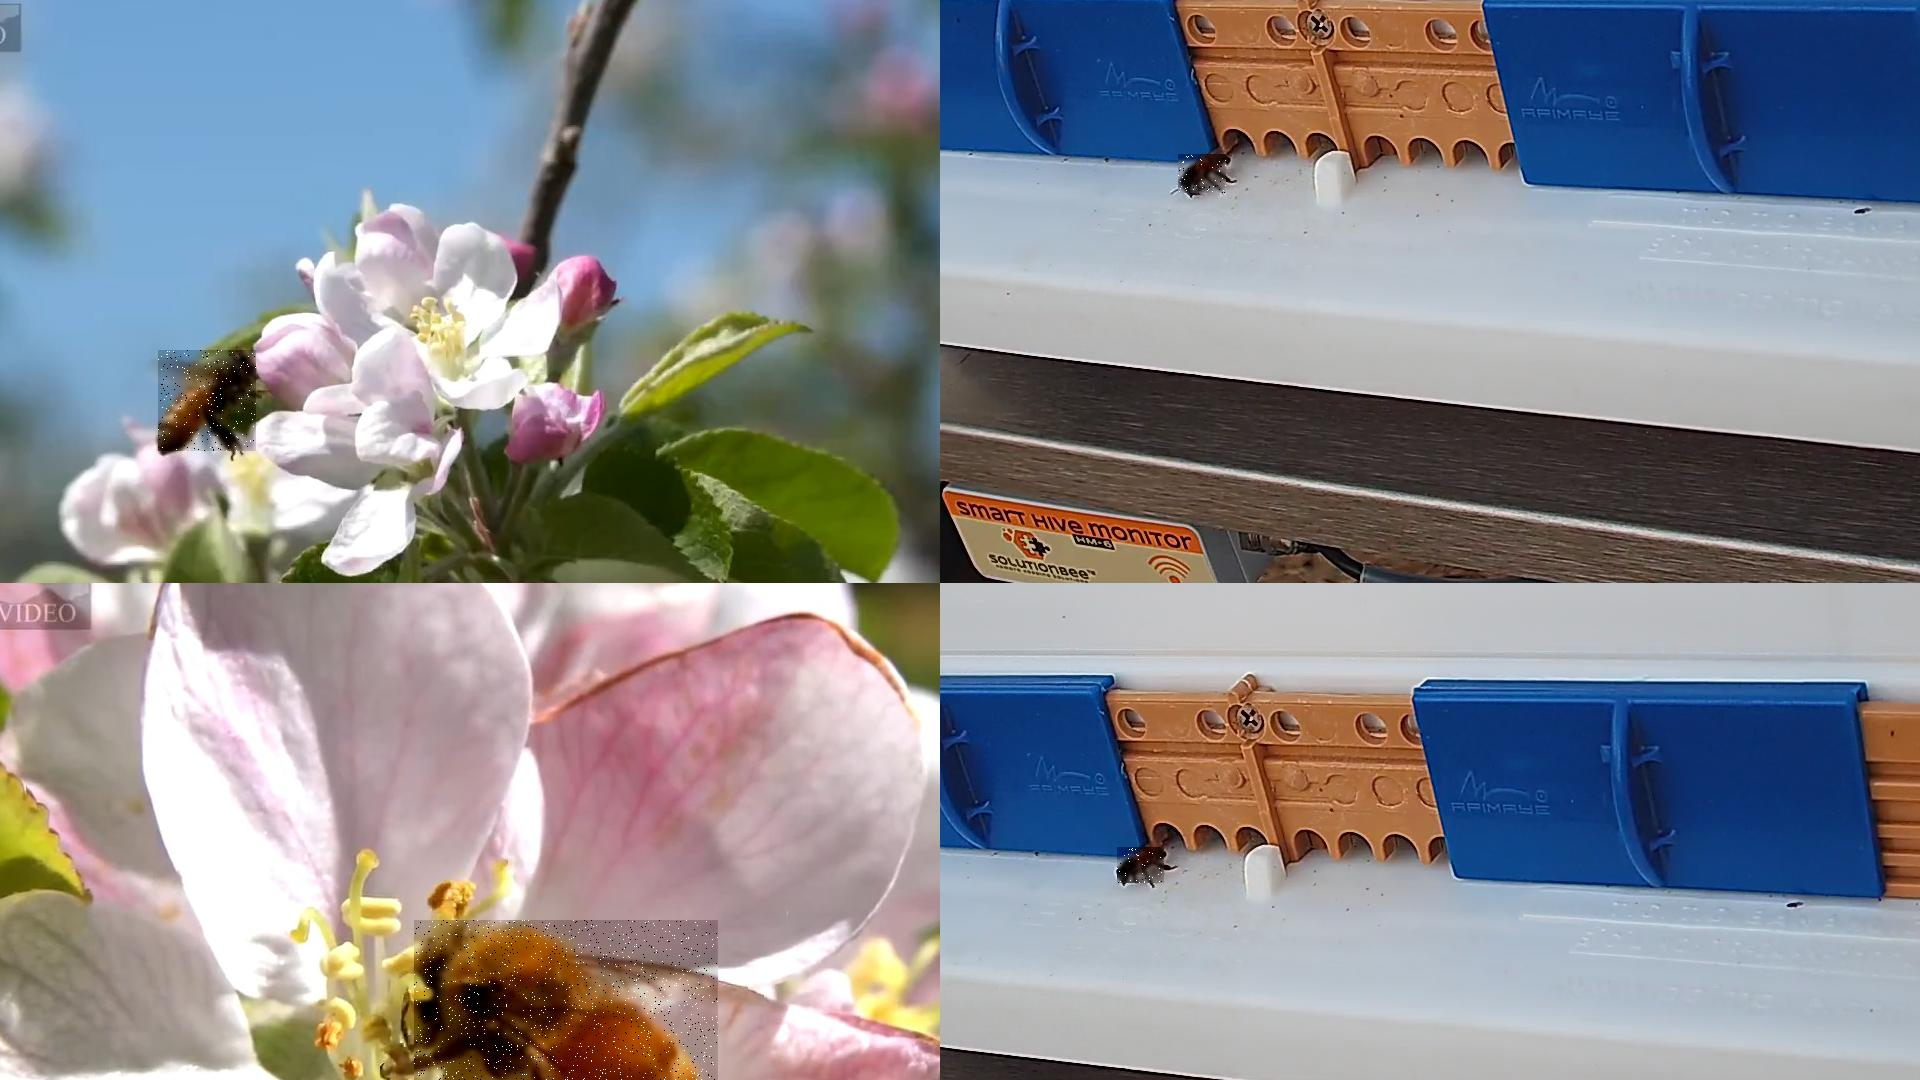bee: (158, 351, 257, 452), (1179, 154, 1229, 195), (1117, 847, 1166, 884)
pollenbee: (414, 920, 720, 1079)
